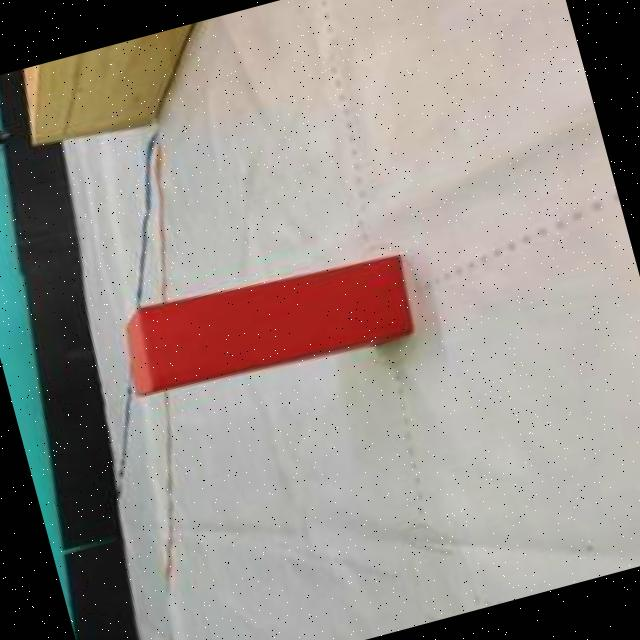redbox: (111, 240, 422, 411)
